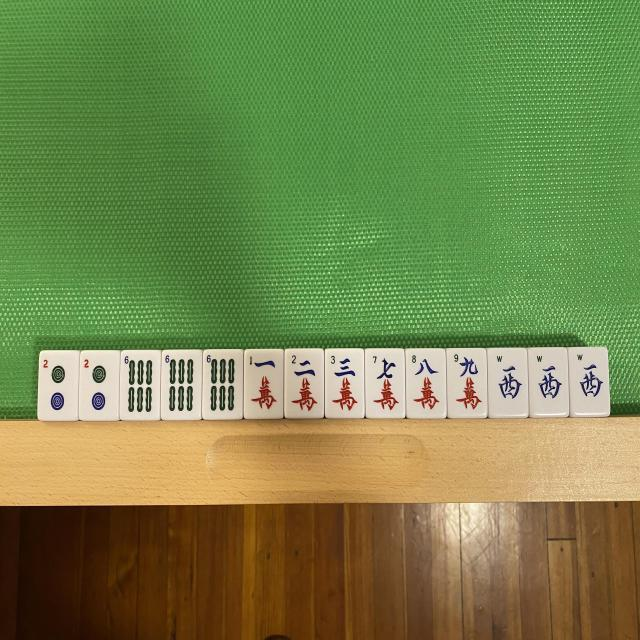hww: (530, 348, 567, 416), (489, 349, 526, 415), (572, 348, 607, 416)
sb6: (161, 350, 202, 420), (120, 351, 160, 421), (203, 351, 243, 418)
sc1: (244, 349, 284, 418)
sc2: (284, 349, 323, 418)
sc3: (326, 349, 364, 418)
sc7: (366, 348, 404, 418)
sc8: (406, 350, 444, 418)
sc9: (448, 348, 485, 417)
sd2: (80, 352, 119, 420), (40, 352, 76, 419)
